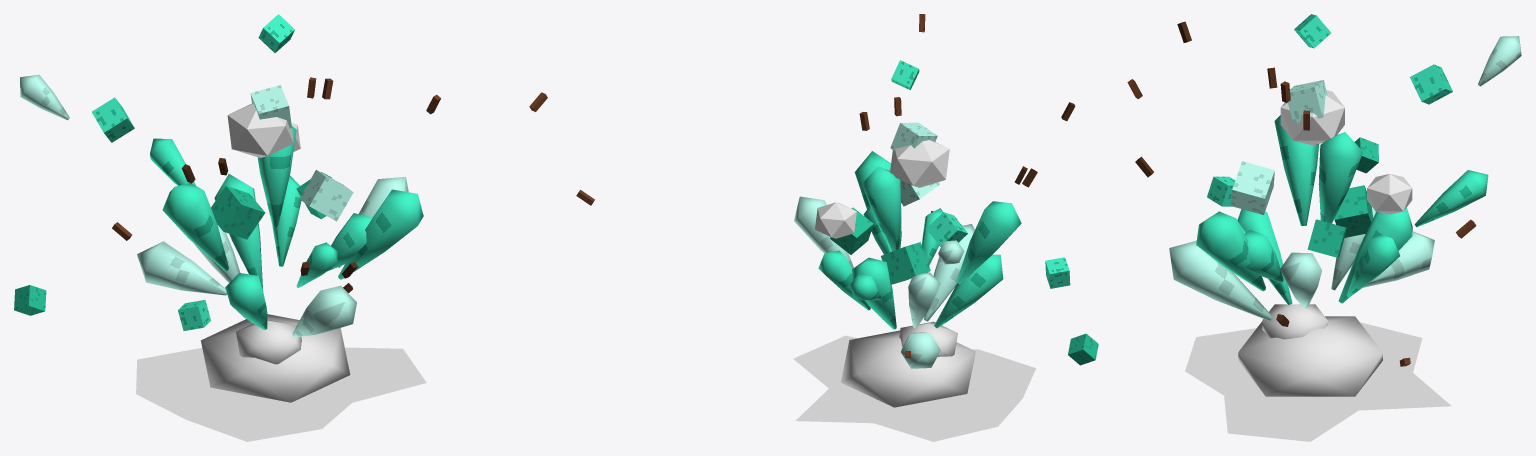
The model's file is Mint Splat Burst.fbx.
3 views of the same model, side by side, from view 1: azimuth 30°, elevation 25°; view 2: azimuth 150°, elevation 25°; view 3: azimuth 270°, elevation 25° (orthographic). The views are drawn at different scales.
Visible parts, largest first — view 1: Mint Splat Burst puddle, Mint Splat Burst core, Mint Splat Burst crown 7, Mint Splat Burst crown 4, Mint Splat Burst drop 3, Mint Splat Burst blob 0, Mint Splat Burst core top, Mint Splat Burst crown 6, Mint Splat Burst cube 4, Mint Splat Burst drop 1, Mint Splat Burst crown 5, Mint Splat Burst cube 5 (+13 smaller); view 2: Mint Splat Burst puddle, Mint Splat Burst core, Mint Splat Burst crown 4, Mint Splat Burst blob 0, Mint Splat Burst drop 1, Mint Splat Burst crown 5, Mint Splat Burst crown 2, Mint Splat Burst cube 4, Mint Splat Burst crown 0, Mint Splat Burst crown 6, Mint Splat Burst blob 1, Mint Splat Burst crown 3 (+13 smaller); view 3: Mint Splat Burst puddle, Mint Splat Burst core, Mint Splat Burst crown 6, Mint Splat Burst drop 1, Mint Splat Burst crown 7, Mint Splat Burst crown 4, Mint Splat Burst blob 0, Mint Splat Burst cube 5, Mint Splat Burst drop 2, Mint Splat Burst core top, Mint Splat Burst drop 3, Mint Splat Burst crown 2 (+14 smaller).
Boxes of the visible parts, x1=… form: Mint Splat Burst puddle: x1=136, y1=347, x2=426, y2=441; Mint Splat Burst core: x1=200, y1=314, x2=350, y2=402; Mint Splat Burst crown 7: x1=338, y1=189, x2=423, y2=279; Mint Splat Burst crown 4: x1=162, y1=183, x2=228, y2=271; Mint Splat Burst drop 3: x1=137, y1=241, x2=226, y2=295; Mint Splat Burst blob 0: x1=227, y1=103, x2=293, y2=157; Mint Splat Burst core top: x1=236, y1=319, x2=301, y2=364; Mint Splat Burst crown 6: x1=292, y1=285, x2=356, y2=337; Mint Splat Burst cube 4: x1=211, y1=186, x2=265, y2=239; Mint Splat Burst drop 1: x1=257, y1=126, x2=296, y2=227; Mint Splat Burst crown 5: x1=225, y1=273, x2=267, y2=329; Mint Splat Burst cube 5: x1=299, y1=169, x2=353, y2=221; Mint Splat Burst puddle: x1=793, y1=335, x2=1035, y2=441; Mint Splat Burst core: x1=840, y1=330, x2=975, y2=407; Mint Splat Burst crown 4: x1=956, y1=201, x2=1021, y2=284; Mint Splat Burst blob 0: x1=890, y1=140, x2=949, y2=187; Mint Splat Burst drop 1: x1=862, y1=166, x2=901, y2=251; Mint Splat Burst crown 5: x1=934, y1=254, x2=1003, y2=328; Mint Splat Burst crown 2: x1=852, y1=257, x2=896, y2=329; Mint Splat Burst cube 4: x1=881, y1=242, x2=930, y2=284; Mint Splat Burst crown 0: x1=794, y1=196, x2=853, y2=268; Mint Splat Burst crown 6: x1=924, y1=224, x2=974, y2=321; Mint Splat Burst blob 1: x1=815, y1=202, x2=856, y2=238; Mint Splat Burst crown 3: x1=908, y1=272, x2=940, y2=328; Mint Splat Burst puddle: x1=1185, y1=322, x2=1451, y2=441; Mint Splat Burst core: x1=1238, y1=316, x2=1382, y2=396; Mint Splat Burst crown 6: x1=1169, y1=240, x2=1272, y2=320; Mint Splat Burst drop 1: x1=1318, y1=132, x2=1362, y2=223; Mint Splat Burst crown 7: x1=1196, y1=211, x2=1265, y2=291; Mint Splat Burst crown 4: x1=1274, y1=115, x2=1318, y2=226; Mint Splat Burst blob 0: x1=1280, y1=90, x2=1344, y2=145; Mint Splat Burst cube 5: x1=1231, y1=161, x2=1274, y2=214; Mint Splat Burst drop 2: x1=1414, y1=170, x2=1488, y2=227; Mint Splat Burst core top: x1=1262, y1=304, x2=1327, y2=339; Mint Splat Burst drop 3: x1=1363, y1=231, x2=1434, y2=287; Mint Splat Burst crown 2: x1=1338, y1=207, x2=1412, y2=303.
Size of the model in its own units: 0.8355 by 0.5356 by 0.5095.
8 materials, 5 textured.
